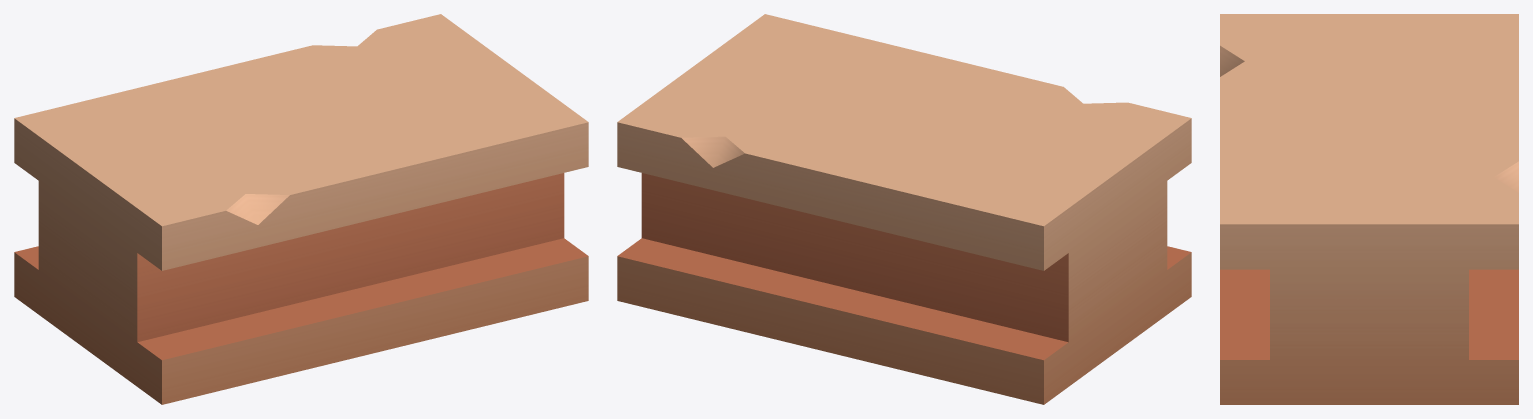
The model's file is border-straight.obj.
3 renders of one model, left to right at view 1: azimuth 30°, elevation 25°; view 2: azimuth 150°, elevation 25°; view 3: azimuth 270°, elevation 25°, orthographic.
Parts seen in each view (by area): view 1: border-straight; view 2: border-straight; view 3: border-straight.
Part boxes in pixels (box(x1,y1,x2,y2)): border-straight: box(14, 14, 588, 404); border-straight: box(617, 14, 1191, 404); border-straight: box(1220, 14, 1518, 404).
Bounding box in the file's own units: 1 × 0.4 × 0.6.
Materials: 1 (1 with a texture image).
